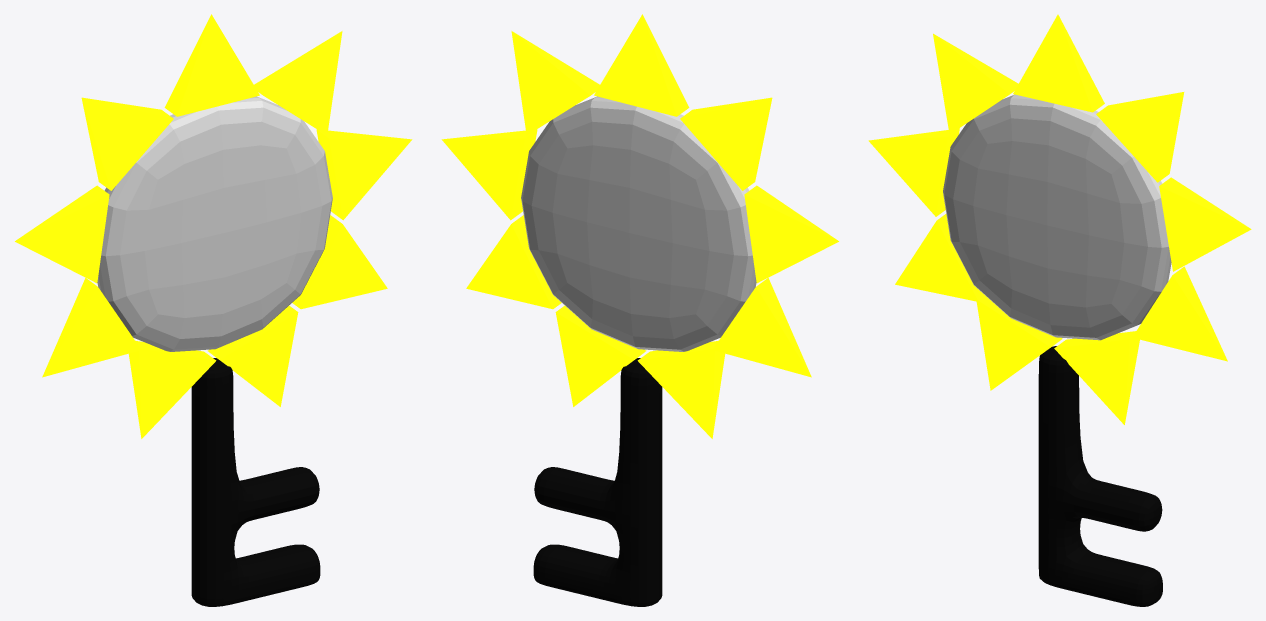
Rendered from sunkey.fbx.
The picture shows the model from 3 angles, left to right: view 1: azimuth 30°, elevation 25°; view 2: azimuth 150°, elevation 25°; view 3: azimuth 330°, elevation 25°; orthographic projection. The views are drawn at different scales.
Parts seen in each view (by area): view 1: Cube, Cube.002, Cube.001; view 2: Cube, Cube.002, Cube.001; view 3: Cube, Cube.002, Cube.001.
Boxes of the visible parts, x1=… form: Cube: x1=97, y1=96, x2=332, y2=351; Cube.002: x1=15, y1=14, x2=412, y2=438; Cube.001: x1=191, y1=358, x2=320, y2=606; Cube: x1=521, y1=96, x2=756, y2=351; Cube.002: x1=441, y1=14, x2=838, y2=438; Cube.001: x1=533, y1=358, x2=662, y2=606; Cube: x1=943, y1=94, x2=1171, y2=340; Cube.002: x1=868, y1=14, x2=1251, y2=424; Cube.001: x1=1038, y1=346, x2=1162, y2=606.
Bounding box in the file's own units: 133 × 188 × 14.
